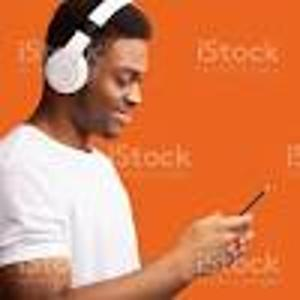Headphones: (42, 1, 137, 96)
